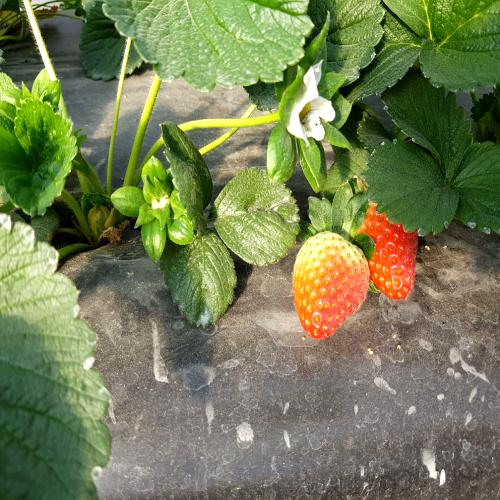partially-ripe: (285, 222, 376, 346)
